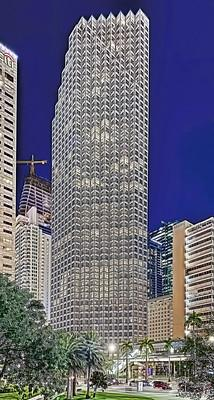building: (46, 4, 151, 376)
